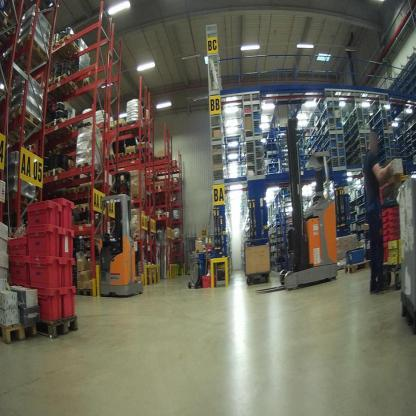forklift: (261, 115, 343, 303), (97, 164, 144, 302)
pallet: (16, 36, 45, 71), (38, 316, 78, 340), (17, 107, 41, 137), (50, 115, 73, 140), (53, 76, 75, 101), (17, 318, 37, 345), (49, 164, 72, 186), (59, 36, 77, 60), (17, 192, 38, 209)
small_load_carrier: (24, 224, 64, 261), (50, 179, 78, 223), (28, 285, 61, 322), (24, 199, 61, 227), (30, 259, 64, 284), (8, 257, 30, 287), (61, 288, 80, 322), (61, 222, 79, 257), (61, 256, 80, 288), (9, 226, 29, 256)
